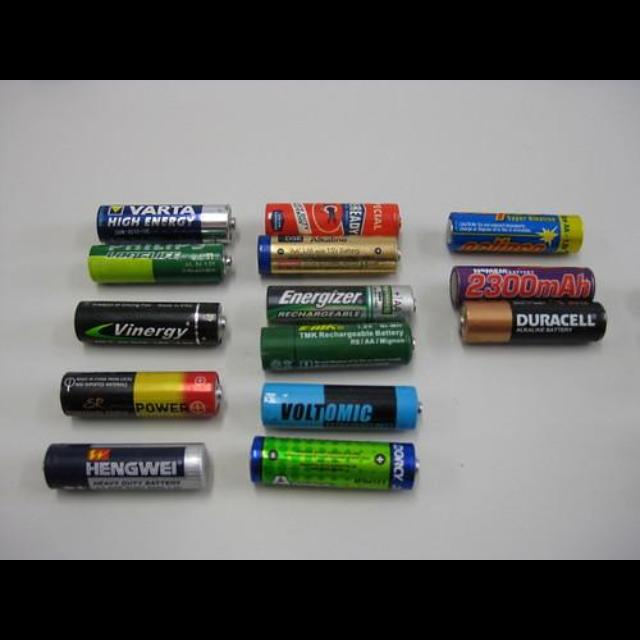bateria: (250, 435, 420, 497), (42, 442, 212, 492), (261, 382, 423, 432), (61, 371, 225, 419), (261, 323, 419, 372), (76, 300, 230, 350), (459, 298, 607, 344), (89, 241, 234, 285), (444, 212, 584, 256), (260, 237, 402, 280), (450, 268, 594, 310), (98, 204, 238, 246), (266, 285, 418, 323), (264, 203, 402, 239)
